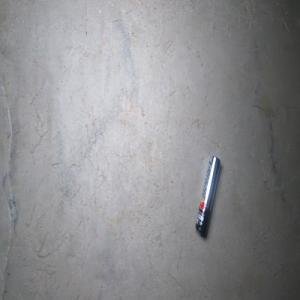Battery: (194, 154, 221, 237)
